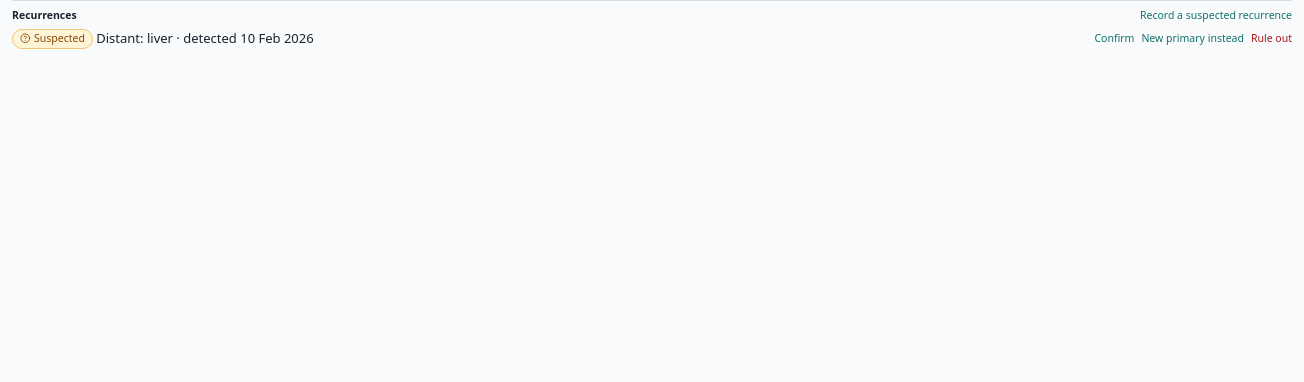
Test case: Recurrences › prefills the new primary from the recurrence
The width and height of the screenshot is (1304, 382).
Click the button "New primary instead" at [1193, 38], box [1141,31,1244,45]
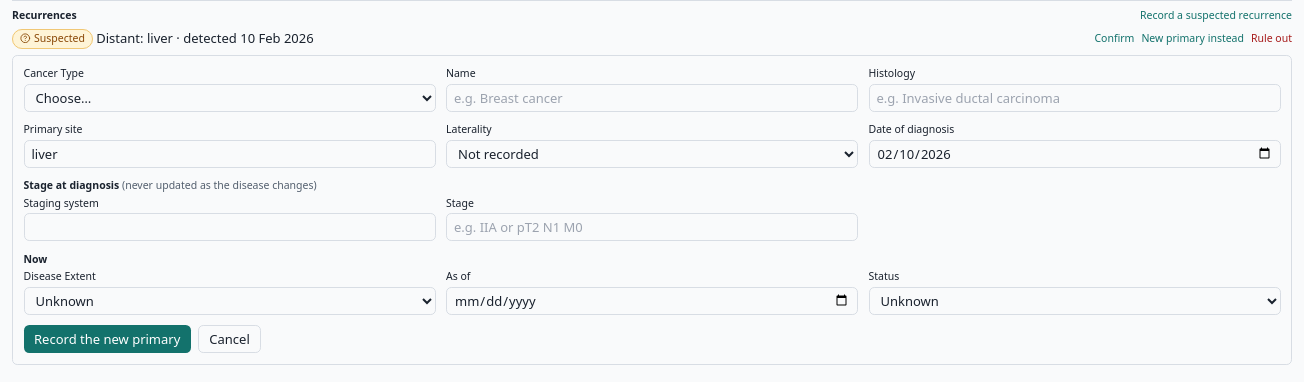
Check: the date field labelled "Date of diagnosis" holds "2026-02-10", box [868,140,1280,168]
Check: the field labelled "Primary site" holds "liver", box [24,140,436,168]
